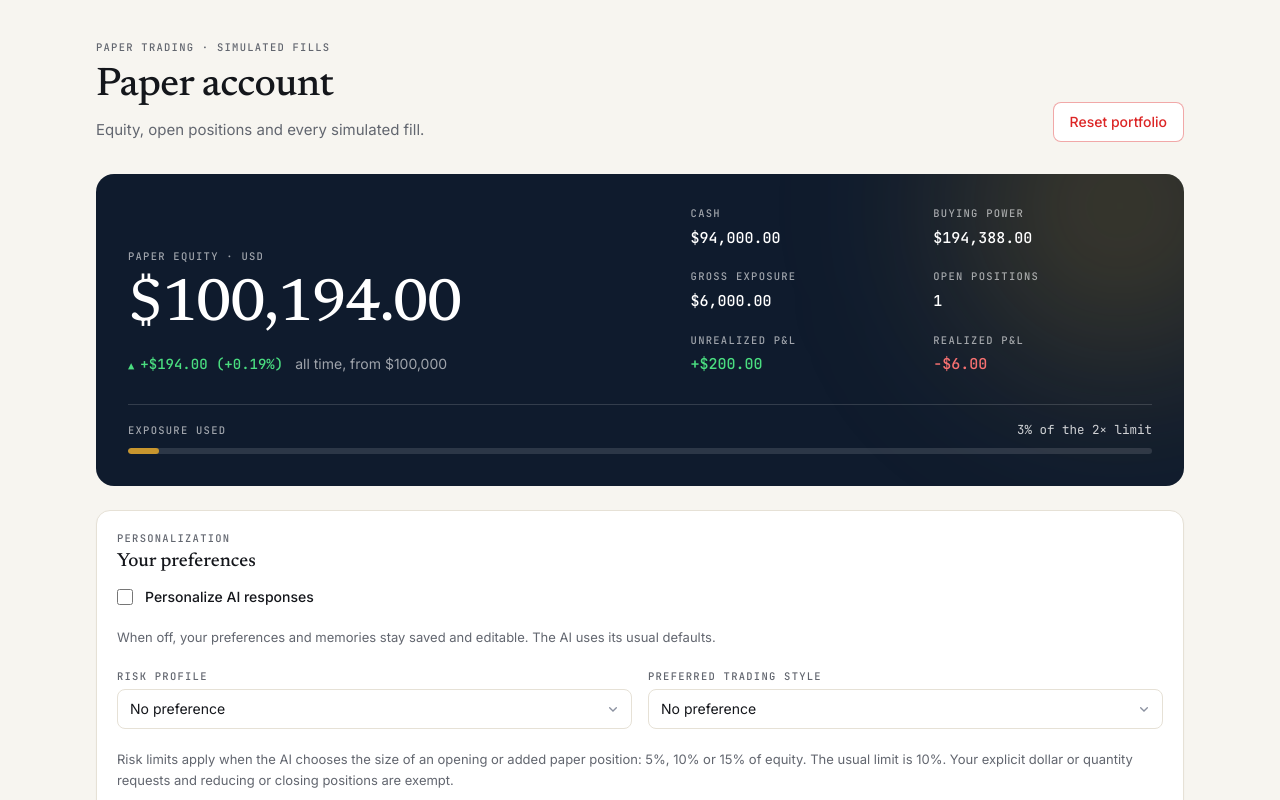
Test case: AccountPage › resets the account after a confirm
Check: the text "$100,194.00" is shown, box [128, 276, 461, 336]
Click the button "Reset portfolio". click: (1118, 122)
box: [1053, 102, 1184, 142]
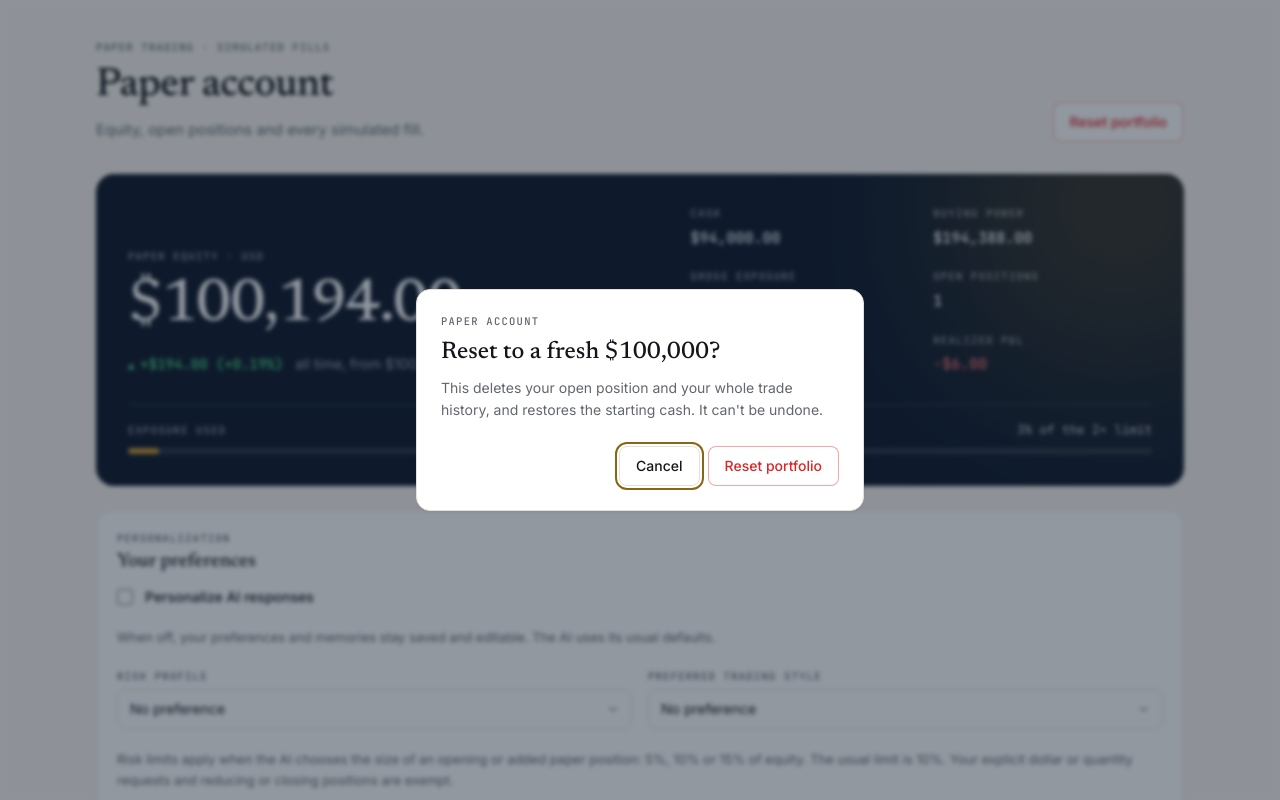
Check: the dialog "Reset to a fresh" shows "This deletes your open position and your whole trade history", box [416, 289, 864, 511]
Click the button "Reset portfolio". click: (773, 466)
box: [708, 446, 839, 486]
(page scrolled)
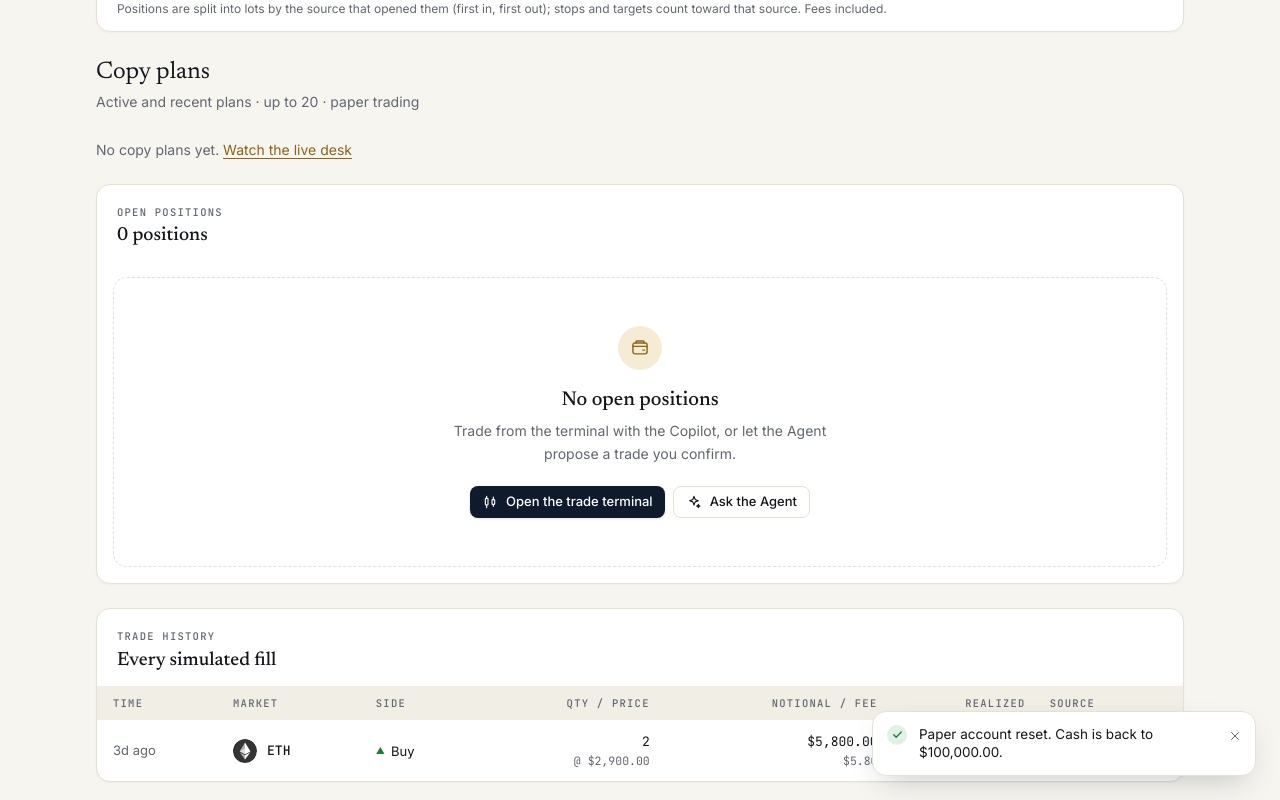
Check: the text "Paper account reset. Cash is back to $100,000.00." is shown, box [919, 726, 1153, 760]
Check: the heading "No open positions" is shown, box [561, 386, 719, 414]
